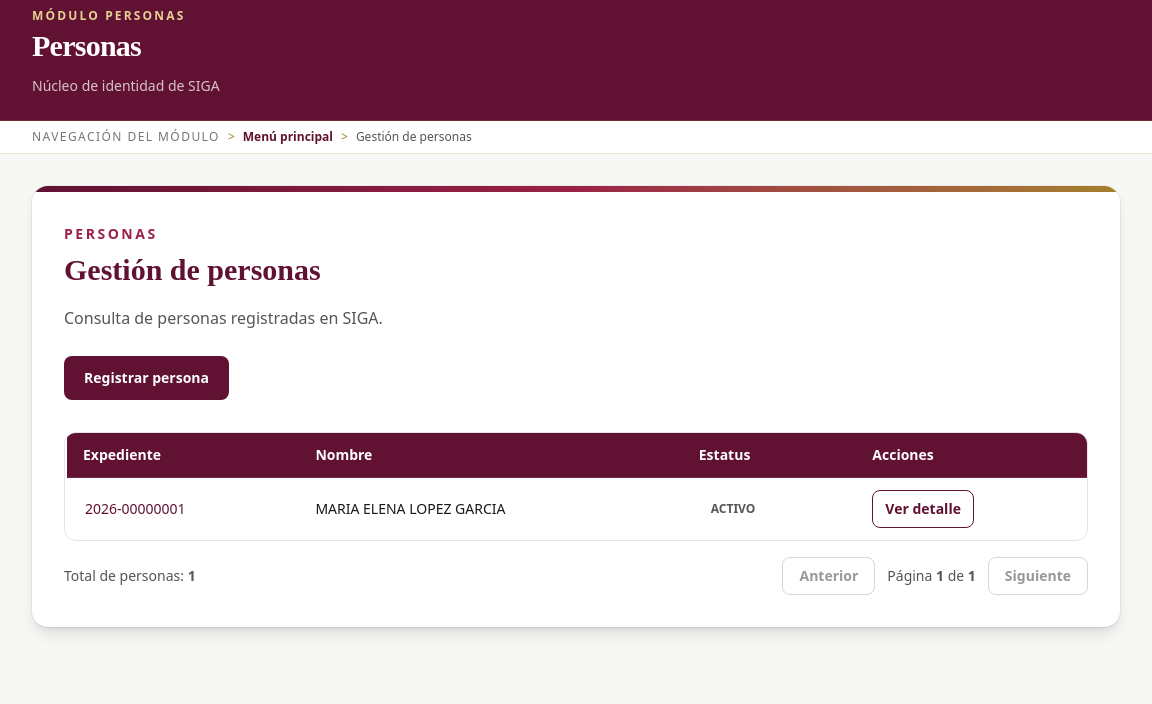
Test case: PersonasPageComponent › muestra un error cuando no puede consultar el detalle
The image size is (1152, 704).
Click the button with test id "persona-view-detail": point(923, 509) [872,490,974,528]
(page scrolled)
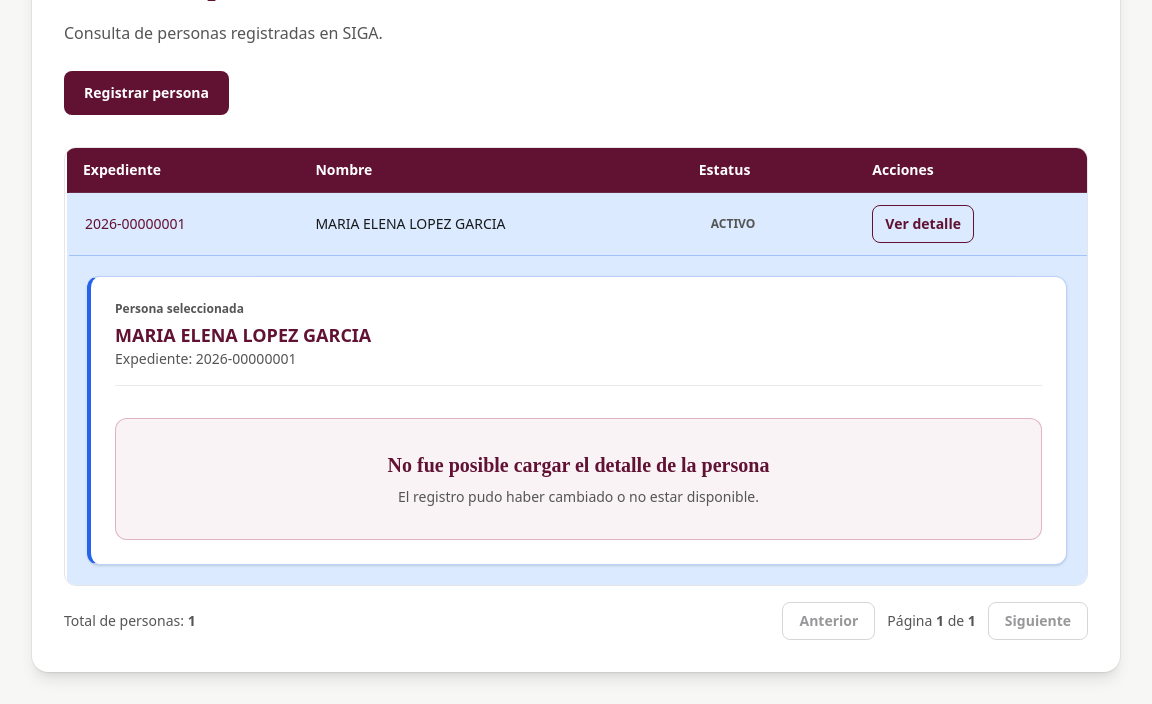
Expected: the message with test id "persona-detail-error" is shown, [115,418,1042,540]
Expected: the message with test id "persona-detail-error" shows "No fue posible cargar el detalle de la persona", [388,454,769,476]
